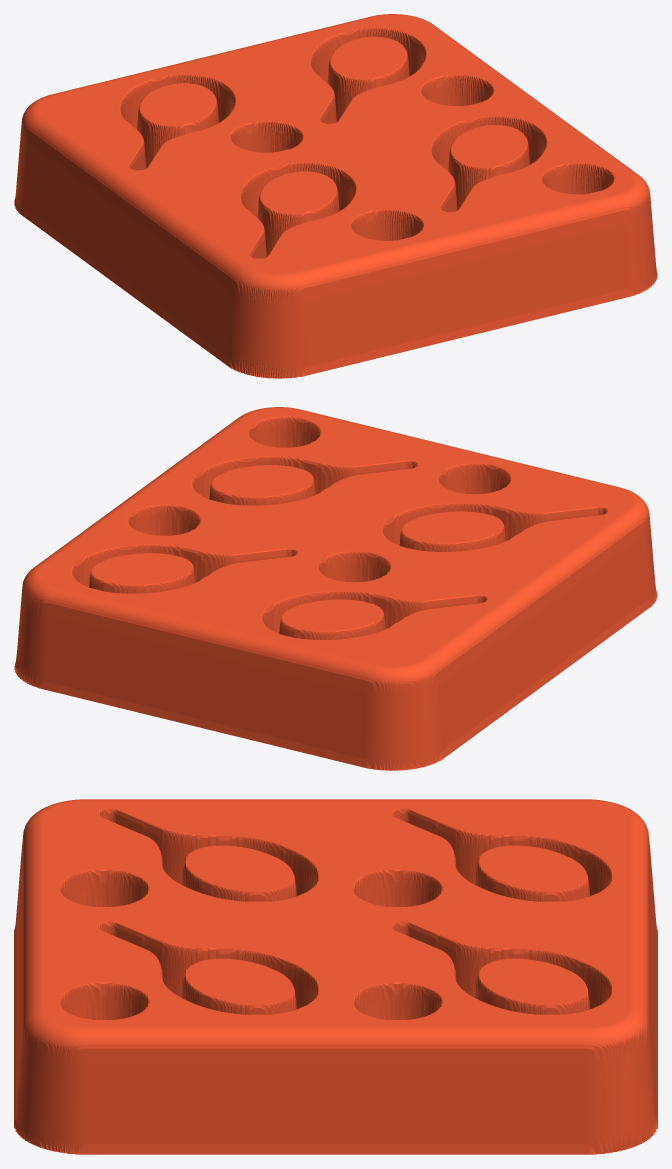
Rendered from mold.glb.
3 views of the same model, one above another, from view 1: azimuth 30°, elevation 25°; view 2: azimuth 150°, elevation 25°; view 3: azimuth 270°, elevation 25° (orthographic). The views are drawn at different scales.
Visible parts, largest first — view 1: geometry_0; view 2: geometry_0; view 3: geometry_0.
Part boxes in pixels (x1,y1,x2,y2): geometry_0: (14,14,657,378); geometry_0: (14,407,657,770); geometry_0: (14,799,657,1154).
Size of the model in its own units: 0.0744 by 0.0159 by 0.0808.
